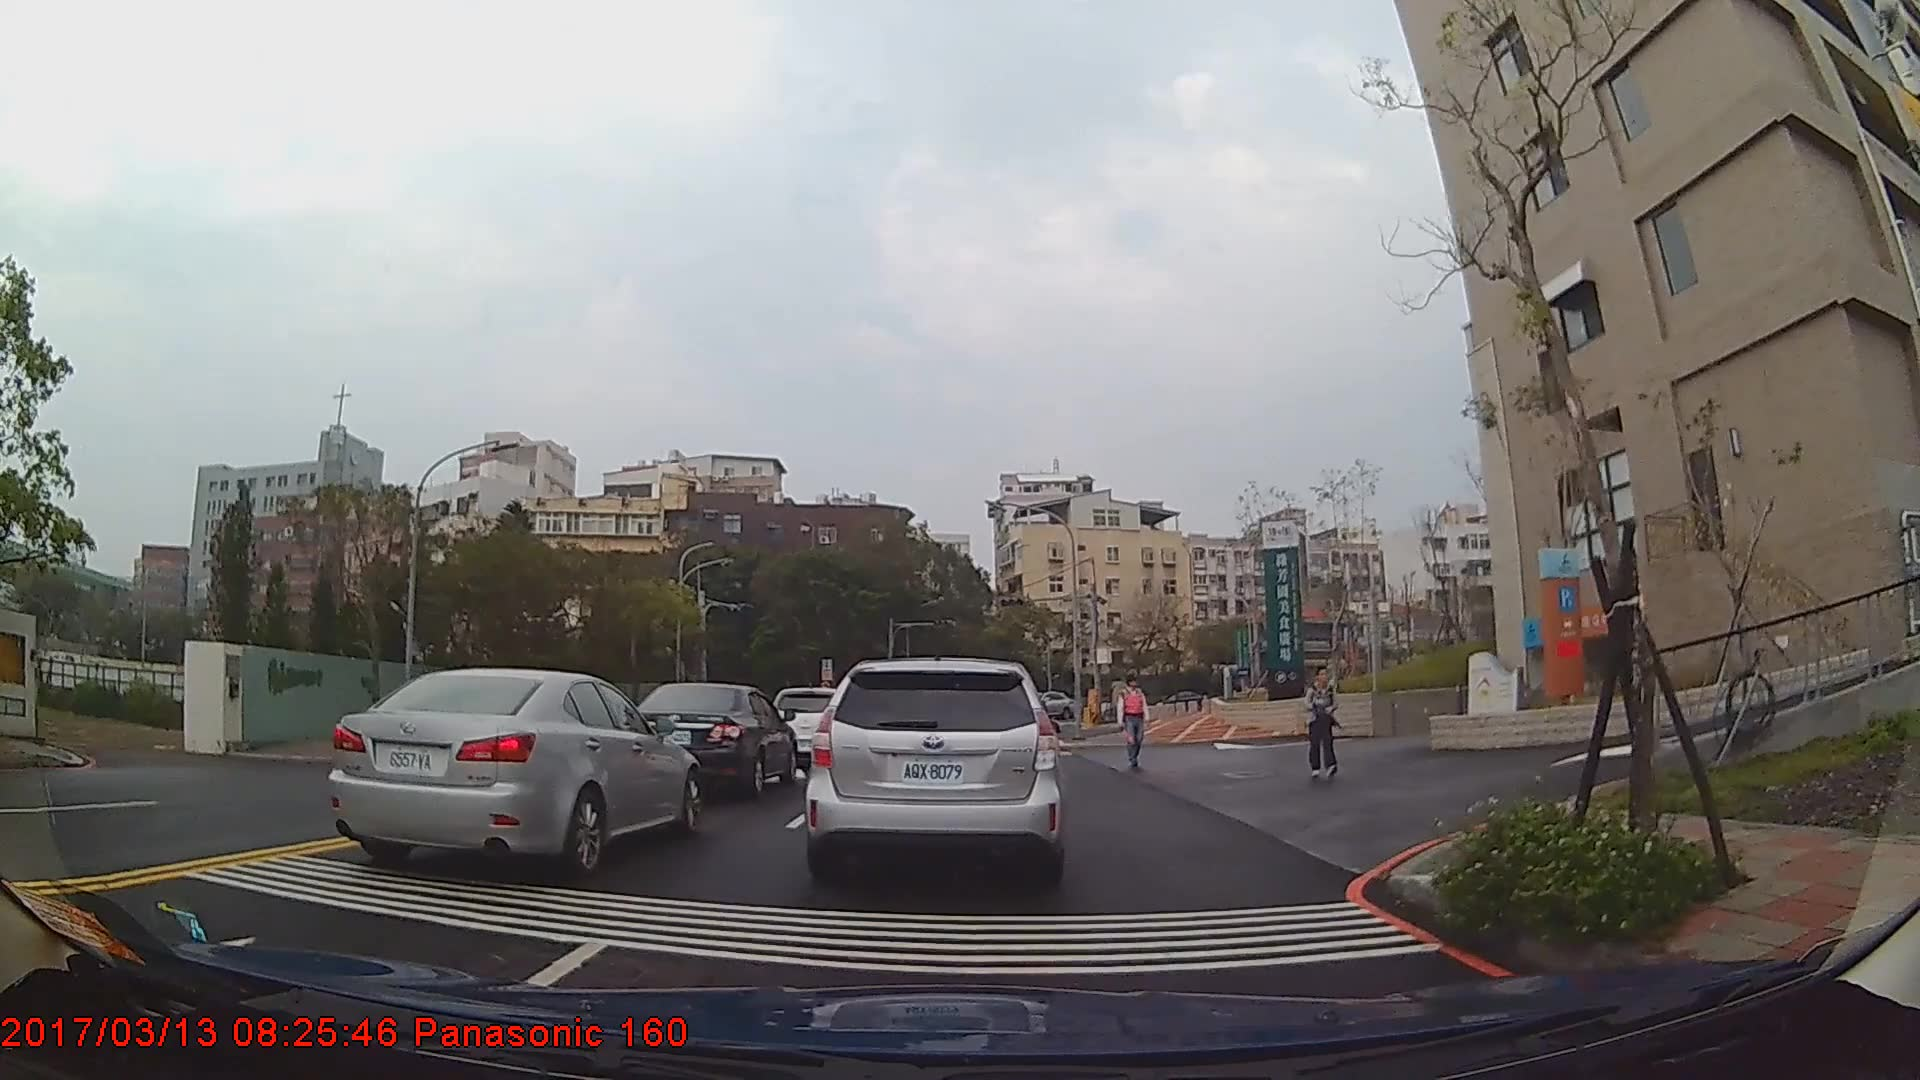pedestrian: (1307, 668, 1342, 780), (1119, 675, 1148, 769)
vehicle: (326, 667, 699, 876), (802, 654, 1064, 880), (624, 680, 798, 794)
